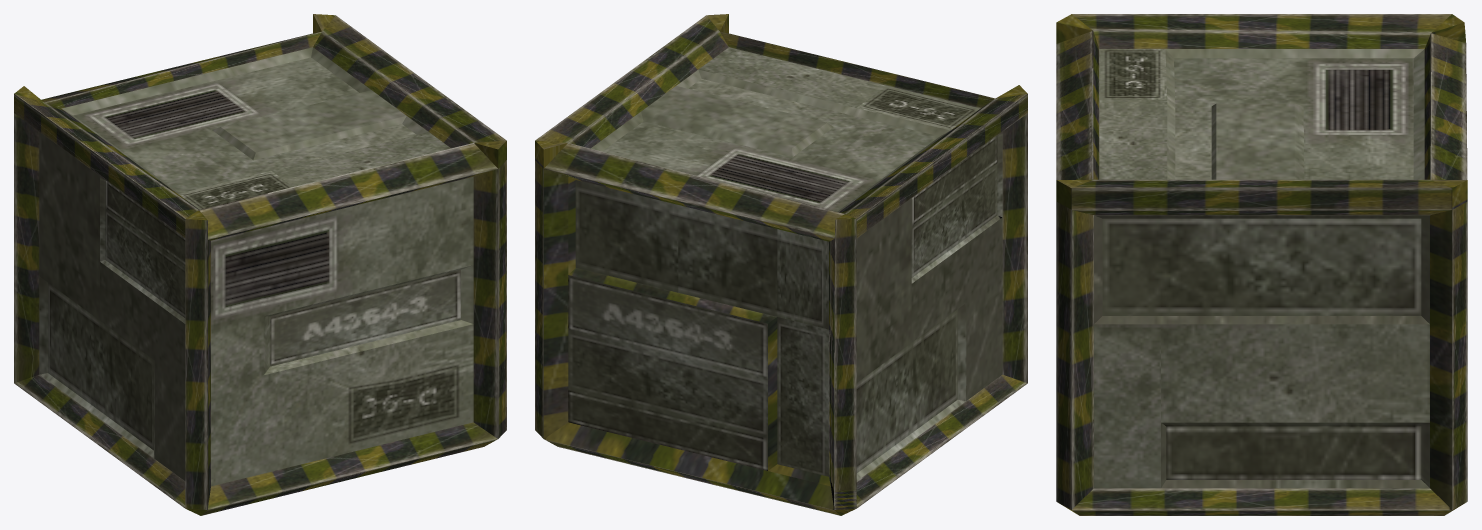
Rendered from Model_Crate_06.fbx.
The picture shows the model from 3 angles, left to right: view 1: azimuth 30°, elevation 25°; view 2: azimuth 150°, elevation 25°; view 3: azimuth 270°, elevation 25°; orthographic projection. The views are drawn at different scales.
Visible parts, largest first — view 1: Crate_06; view 2: Crate_06; view 3: Crate_06.
Boxes of the visible parts, left/top/right/bottom form: Crate_06: left=14, top=14, right=506, bottom=515; Crate_06: left=535, top=14, right=1027, bottom=515; Crate_06: left=1056, top=14, right=1467, bottom=515.
Bounding box in the file's own units: 115 × 104 × 115.
